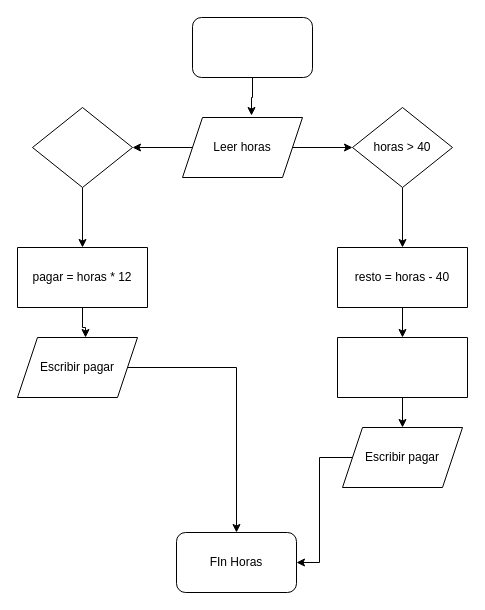
Some shapes in this 485 by 610 pixel diagram are drawn without their labels. Here are the shapes that lost their labels. From the top down, the centre of each, then its label:
At point (252, 47): "Inicio Horas".
At point (82, 147): "horas <= 0?".
At point (402, 367): "pagar = 12 * 40 + resto*16".
